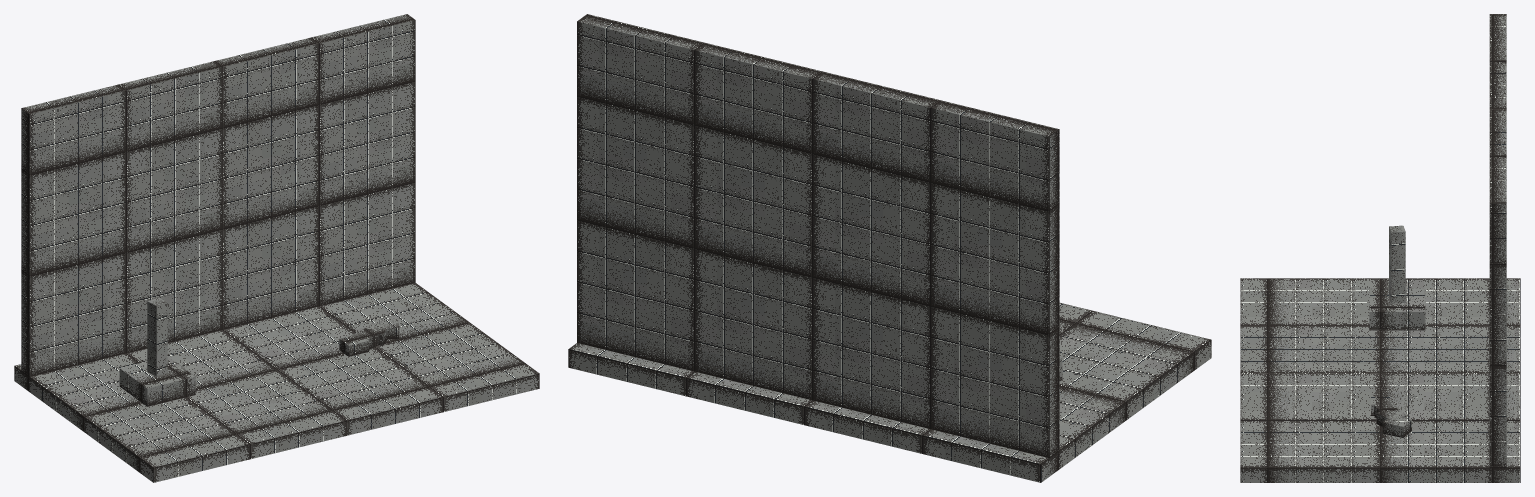
The model's file is gate_blink_proposal_ragged.glb.
3 renders of one model, left to right at view 1: azimuth 30°, elevation 25°; view 2: azimuth 150°, elevation 25°; view 3: azimuth 270°, elevation 25°, orthographic. The views are drawn at different scales.
Visible parts, largest first — view 1: gate_blink_proposal_ragged; view 2: gate_blink_proposal_ragged; view 3: gate_blink_proposal_ragged.
Boxes of the visible parts, box(x1,y1,x2,y2) form: gate_blink_proposal_ragged: box(14, 14, 539, 482); gate_blink_proposal_ragged: box(568, 14, 1211, 482); gate_blink_proposal_ragged: box(1240, 14, 1520, 482).
Size of the model in its own units: 8 by 5.5 by 5.
1 material, 1 textured.
